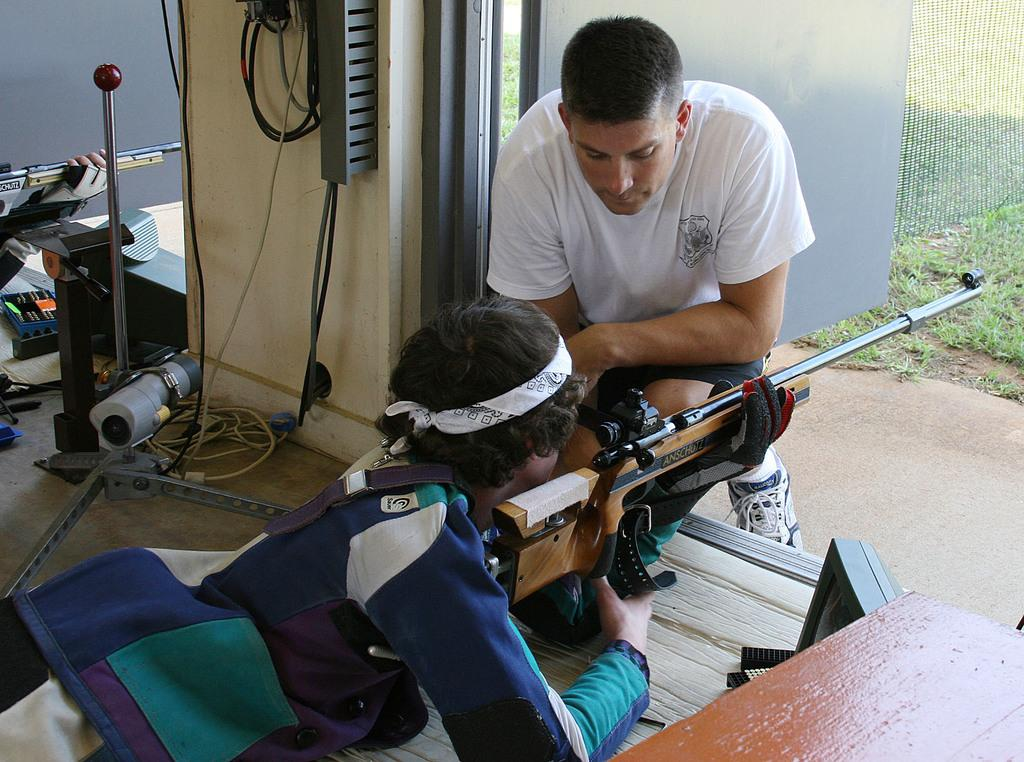Rifle: (484, 270, 988, 625), (0, 143, 180, 213)
